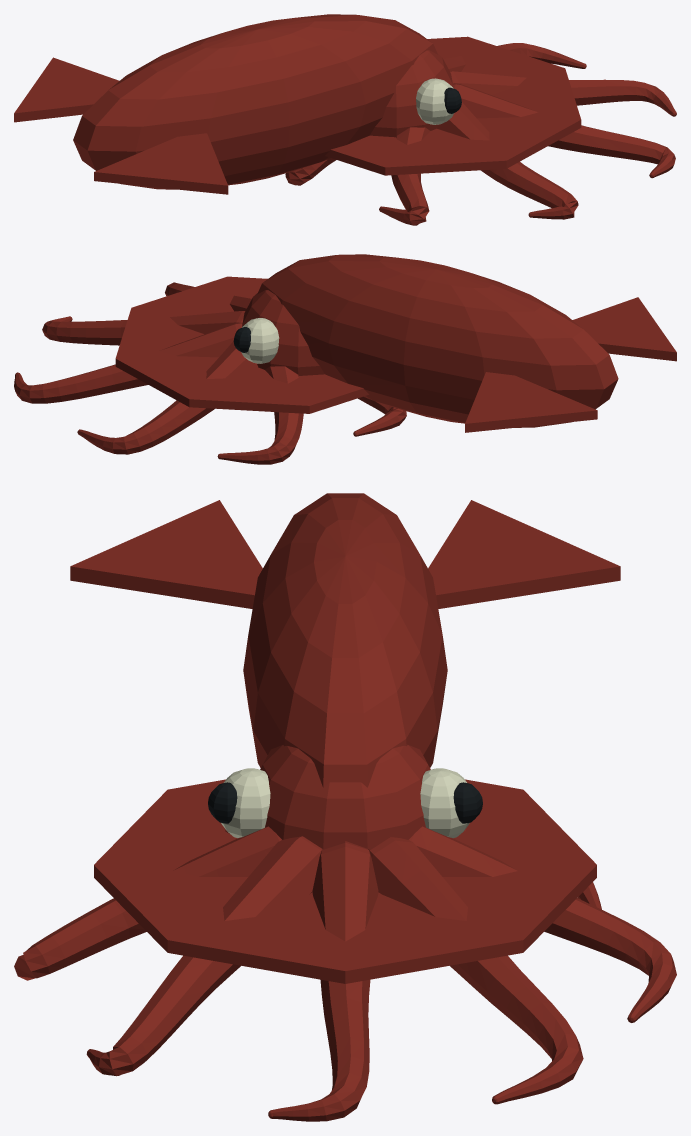
Rendered from vampire-squid.dae.
The picture shows the model from 3 angles, top to bottom: view 1: azimuth 30°, elevation 25°; view 2: azimuth 150°, elevation 25°; view 3: azimuth 270°, elevation 25°; orthographic projection. The views are drawn at different scales.
Visible parts, largest first — view 1: part2-node, part1-node, part0-node; view 2: part2-node, part1-node, part0-node; view 3: part2-node, part1-node, part0-node.
Boxes of the visible parts, box(x1,y1,x2,y2) form: part2-node: box(14, 14, 676, 225); part1-node: box(416, 78, 454, 124); part0-node: box(444, 87, 461, 113); part2-node: box(14, 254, 676, 464); part1-node: box(241, 318, 279, 363); part0-node: box(233, 327, 250, 352); part2-node: box(14, 493, 676, 1121); part1-node: box(221, 768, 469, 838); part0-node: box(208, 782, 482, 823).
Bounding box in the file's own units: 0.3 × 0.1812 × 0.0796.
